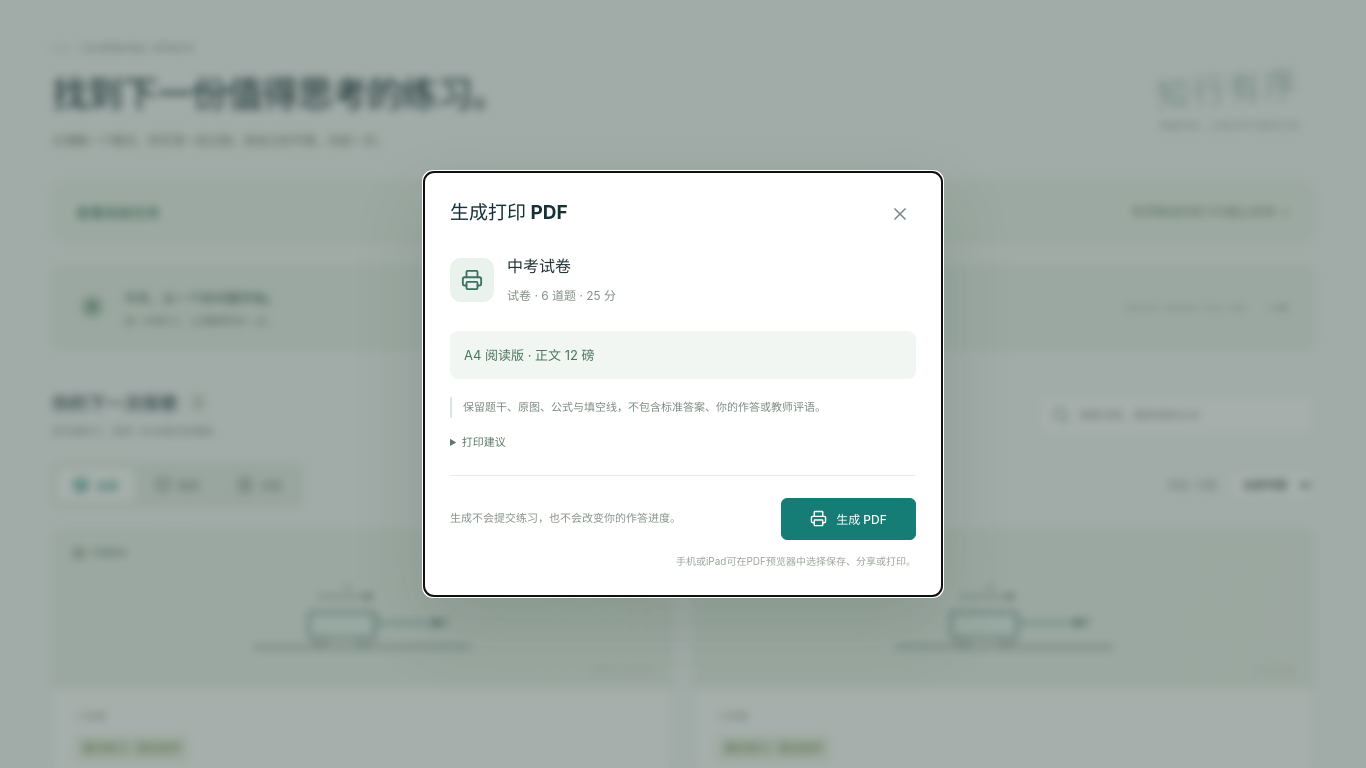
题库和试卷卡片都提供入口，登录后的print参数能继续打开生成弹窗
expect the text "中考试卷" is shown: met, box [507,256,571,276]
Click the button named "关闭弹窗": (900, 214) [884,198,916,230]
(page scrolled)
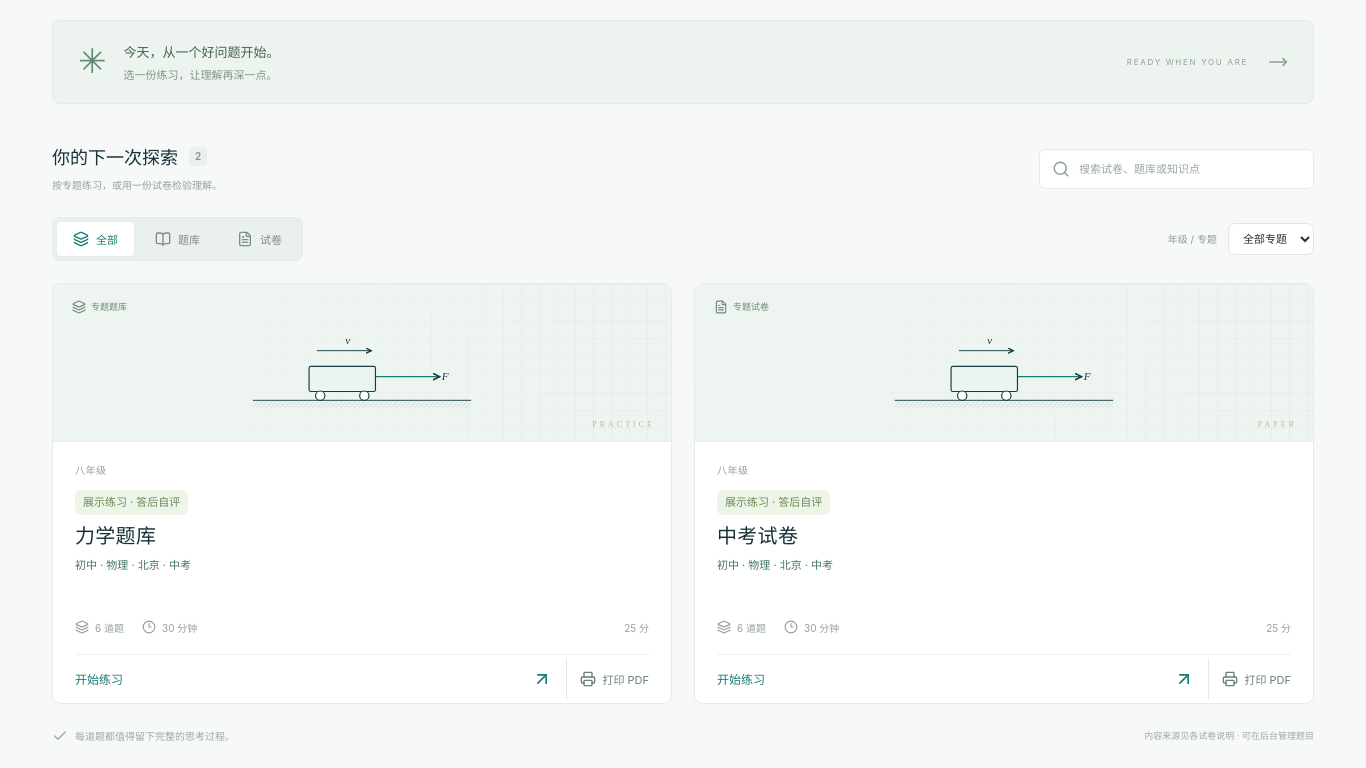
Click the button "打印 PDF" below "PRACTICE": (608, 679) [566,658,649,700]
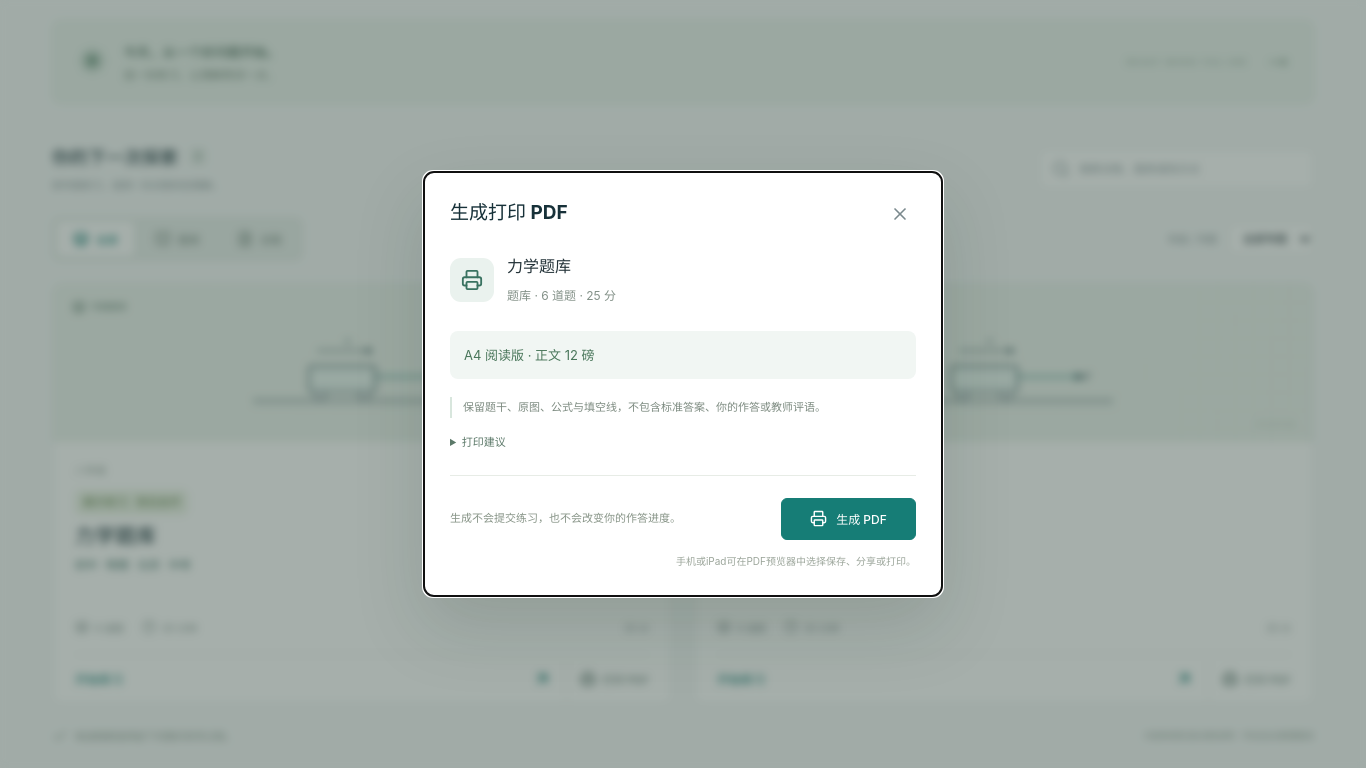
expect the number of buttons "打印 PDF" is 2: met, box [566,658,649,700]; [1208,658,1291,700]
expect the text "力学题库" is shown: met, box [507,256,571,276]
